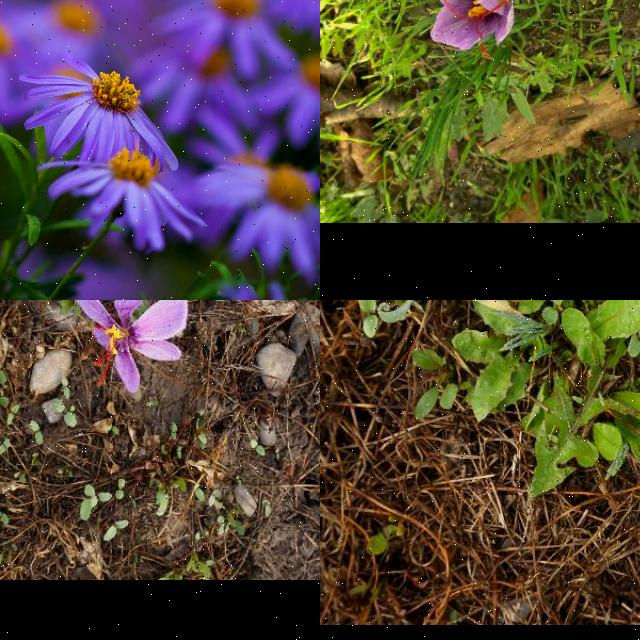flower: (70, 300, 187, 394), (431, 0, 515, 60)
